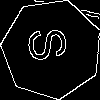S: (26, 24, 77, 64)
